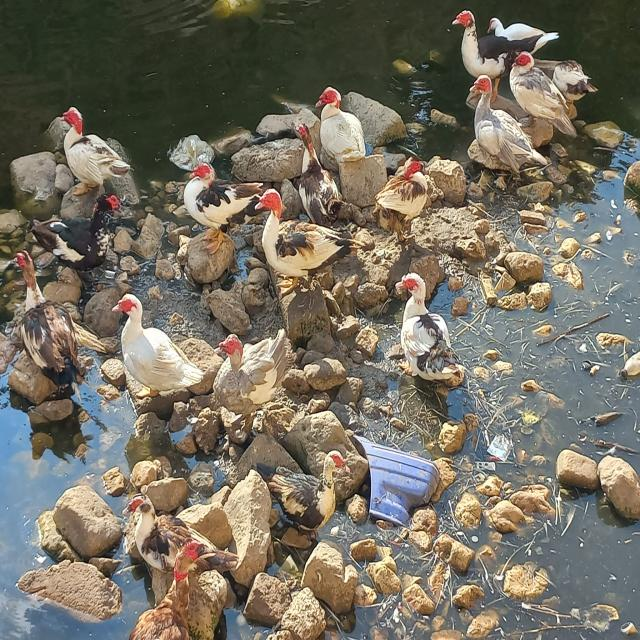Bottle: (622, 349, 640, 377)
Other litter: (487, 432, 516, 465), (579, 359, 602, 376), (476, 460, 497, 472), (490, 456, 500, 462)
Other plastic: (353, 434, 443, 527)
